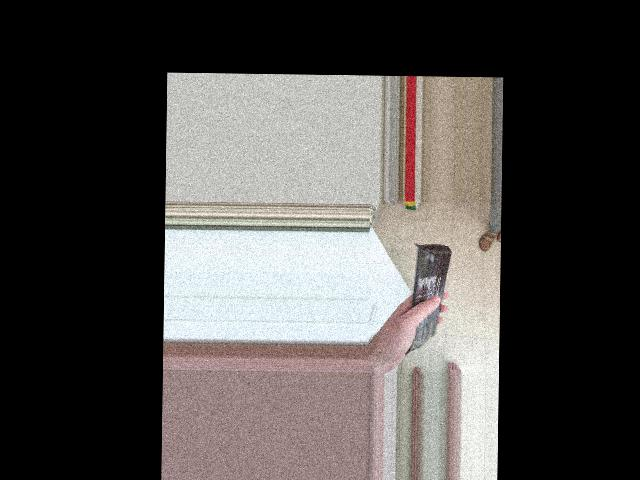chocolate: (406, 243, 451, 361)
